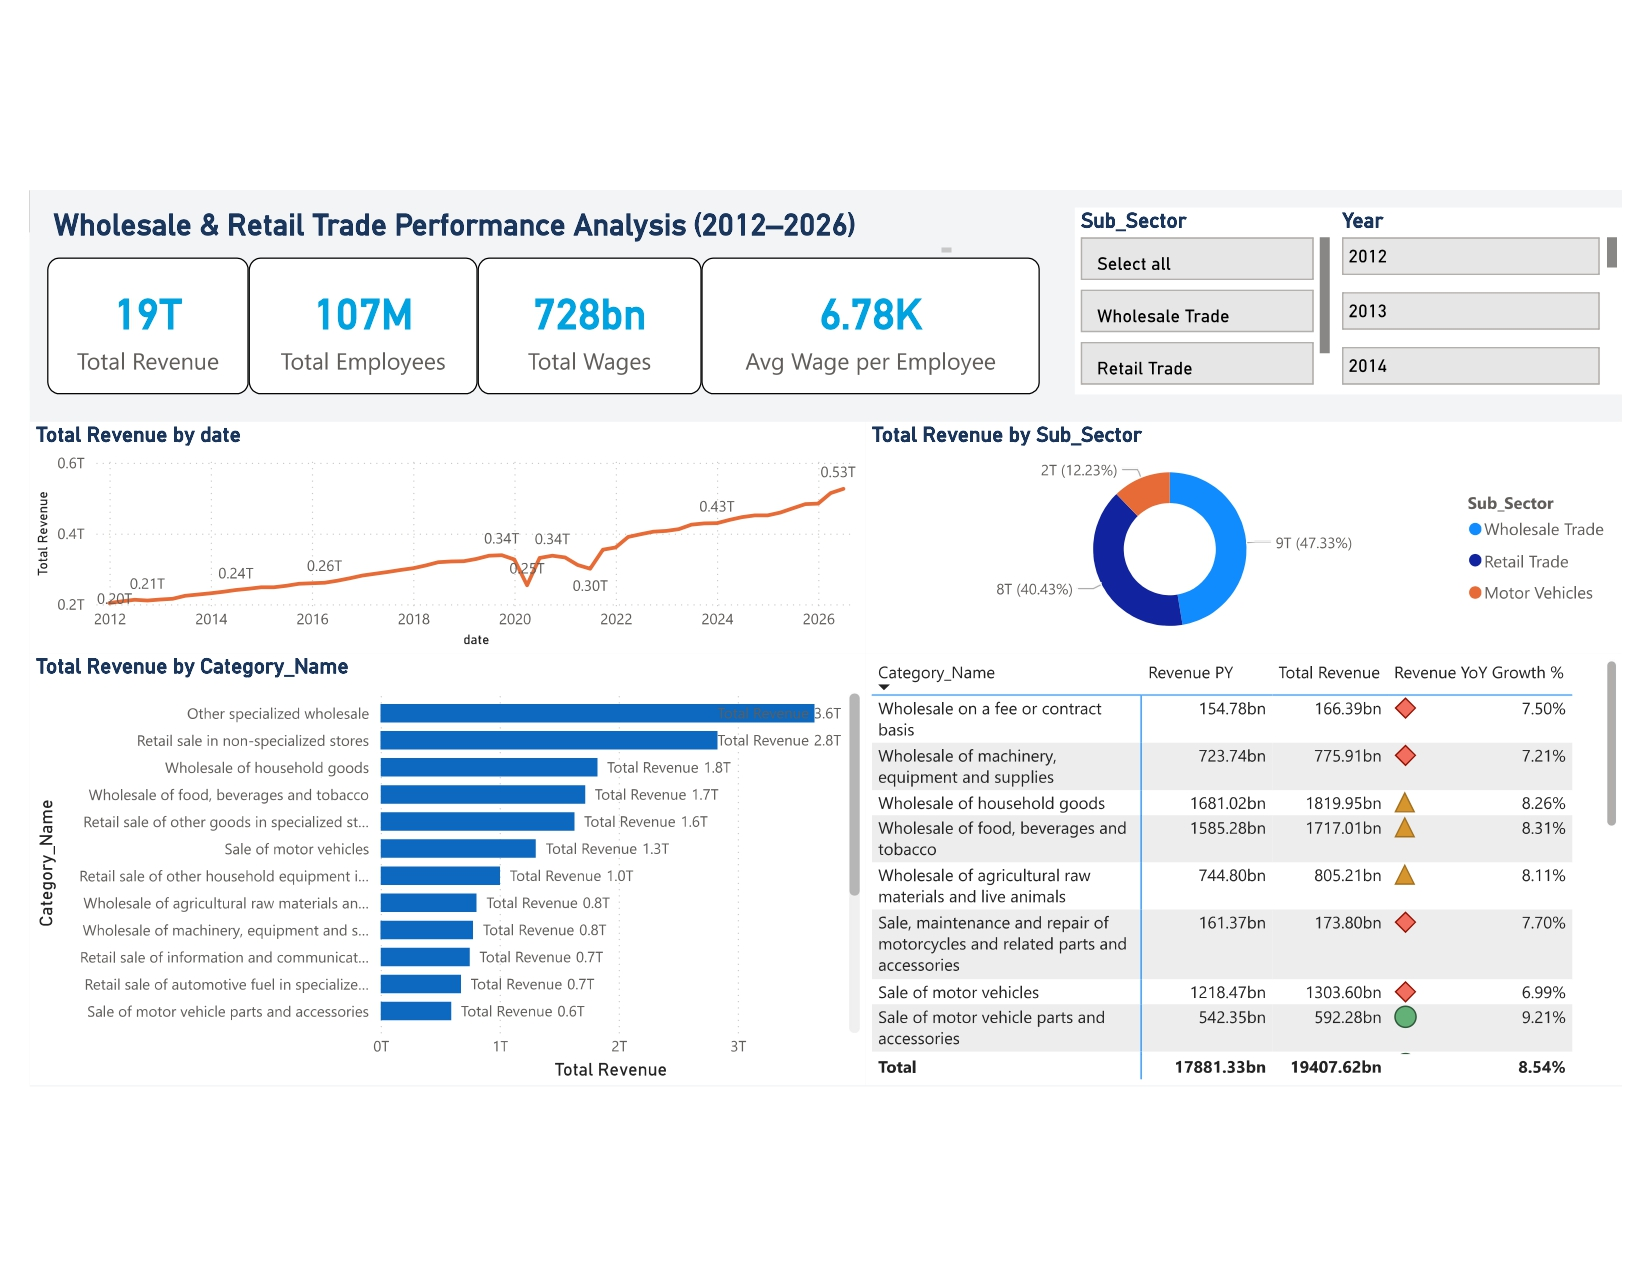

This screenshot's page, from the dashboard's own definition file:
{"tool":"powerbi","page":{"name":"Page 1","canvas":[1280,720],"ordinal":0},"visuals":[{"type":"card","fields":{"Values":["_Measures.Total Revenue"]},"box":[14,54,162,110],"z":0},{"type":"card","fields":{"Values":["_Measures.Total Employees"]},"box":[176,54,184,110],"z":1000},{"type":"card","fields":{"Values":["_Measures.Total Wages"]},"box":[360,54,180,110],"z":2000},{"type":"card","fields":{"Values":["_Measures.Avg_Wage_per_Employee"]},"box":[540,54,272,110],"z":3000},{"type":"lineChart","fields":{"Category":["services_group.date.Variation.Date Hierarchy.Year"],"Y":["_Measures.Total Revenue"]},"box":[0,186,672,186],"z":4000},{"type":"donutChart","fields":{"Category":["Dim_Group.Sub_Sector"],"Y":["_Measures.Total Revenue"]},"box":[672,186,608,186],"z":5000},{"type":"clusteredBarChart","fields":{"Category":["Dim_Group.Category_Name"],"Y":["_Measures.Total Revenue"]},"box":[0,372.2,672.2,347.2],"z":6000},{"type":"advancedSlicerVisual","fields":{"Values":["Dim_Group.Sub_Sector"]},"box":[840,14,210,150],"z":7000},{"type":"pivotTable","fields":{"Rows":["Dim_Group.Category_Name"],"Values":["_Measures.Revenue PY","_Measures.Total Revenue","_Measures.Revenue YoY Growth %"]},"box":[672.2,372.2,608.3,347.2],"z":8000},{"type":"textbox","title":"Wholesale & Retail Trade Performance Analysis (2012–2026)","box":[14.1,14.1,731.5,40.6],"z":9000},{"type":"advancedSlicerVisual","fields":{"Values":["Dim_Date.Year"]},"box":[1050,13.9,230.6,150],"z":10000}]}

Visuals, with their boxes on the page's 1280x720 design canvas (x1, y1, x2, y2). These are canvas units, not pixel positions in the 1650x1275 screenshot, which may show the page scaled, cropped or inside an application window:
card - _Measures.Total Revenue: crop(14, 54, 176, 164)
card - _Measures.Total Employees: crop(176, 54, 360, 164)
card - _Measures.Total Wages: crop(360, 54, 540, 164)
card - _Measures.Avg_Wage_per_Employee: crop(540, 54, 812, 164)
lineChart - services_group.date.Variation.Date Hierarchy.Year x _Measures.Total Revenue: crop(0, 186, 672, 372)
donutChart - Dim_Group.Sub_Sector x _Measures.Total Revenue: crop(672, 186, 1280, 372)
clusteredBarChart - Dim_Group.Category_Name x _Measures.Total Revenue: crop(0, 372, 672, 719)
advancedSlicerVisual - Dim_Group.Sub_Sector: crop(840, 14, 1050, 164)
pivotTable - Dim_Group.Category_Name x _Measures.Revenue PY: crop(672, 372, 1280, 719)
"Wholesale & Retail Trade Performance Analysis (2012–2026)" textbox: crop(14, 14, 746, 55)
advancedSlicerVisual - Dim_Date.Year: crop(1050, 14, 1281, 164)
